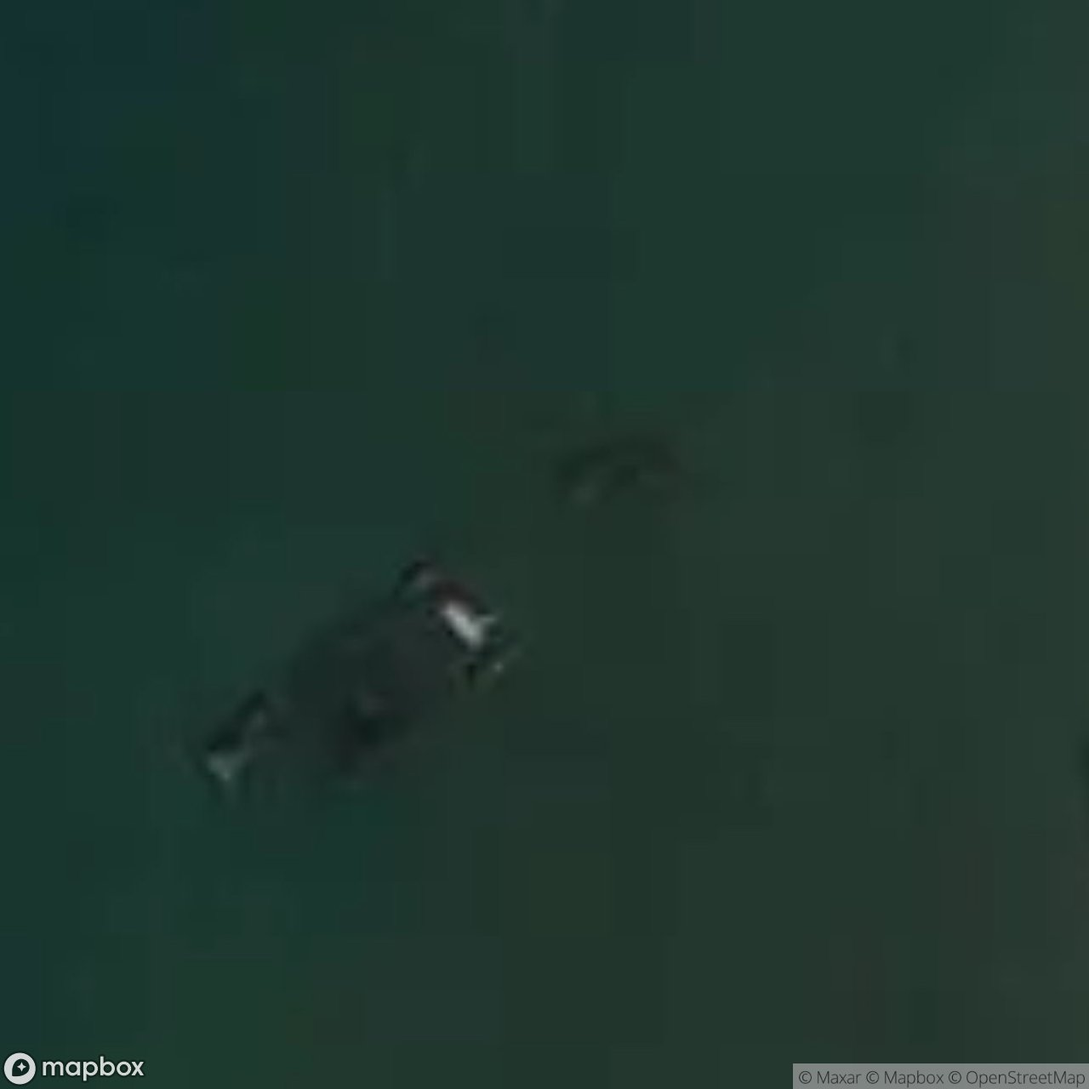Wreck: (151, 691, 758, 883)
